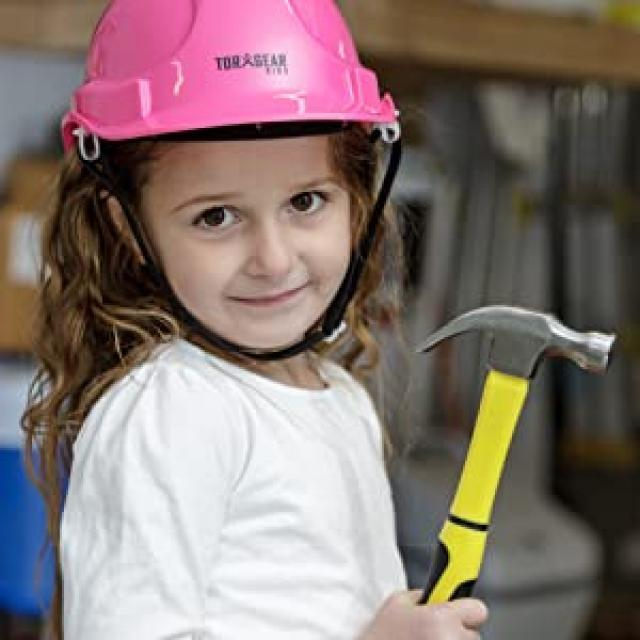hammer: (402, 294, 624, 640)
